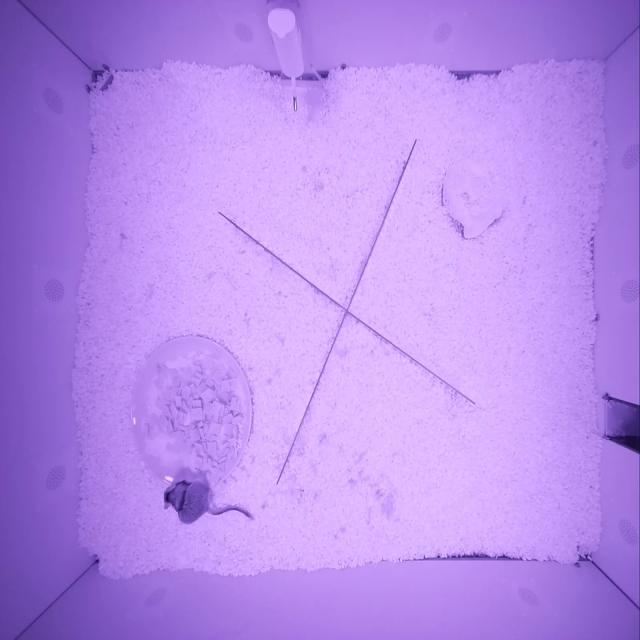adult_front: (164, 480, 213, 524)
